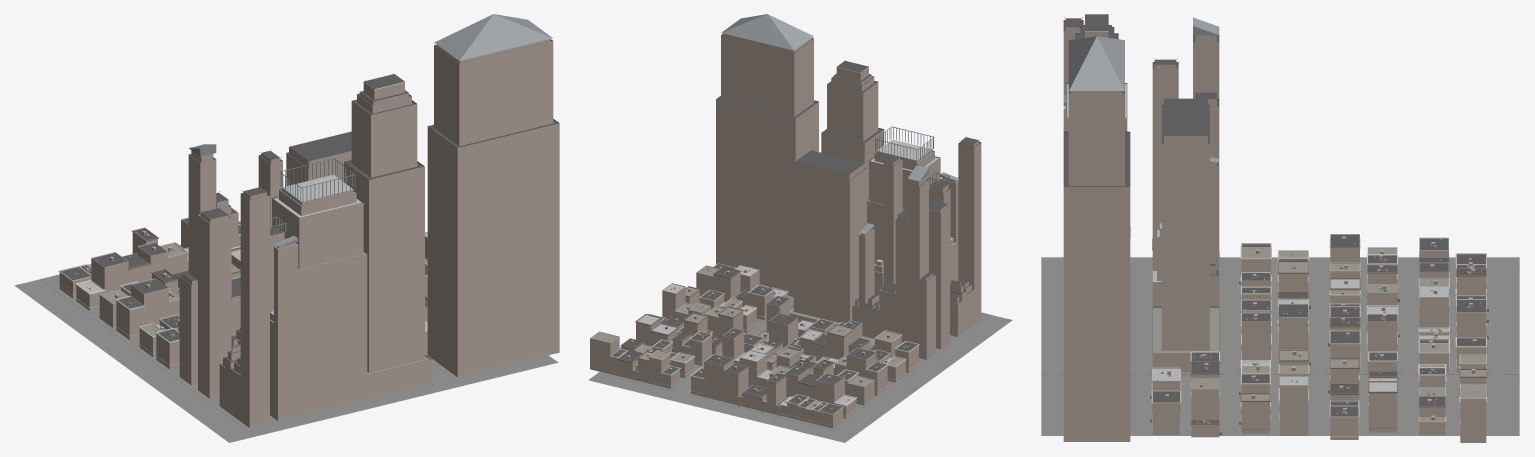
3 renders of one model, left to right at view 1: azimuth 30°, elevation 25°; view 2: azimuth 150°, elevation 25°; view 3: azimuth 270°, elevation 25°, orthographic. The views are drawn at different scales.
Parts seen in each view (by area): view 1: t16_facade, t16_roof, t16_ground, t16_detail; view 2: t16_facade, t16_roof, t16_ground, t16_detail; view 3: t16_facade, t16_ground, t16_roof, t16_detail.
Boxes of the visible parts, x1,y1,x2,y2 form: t16_facade: (59, 39, 559, 427); t16_roof: (61, 14, 557, 375); t16_ground: (14, 245, 558, 442); t16_detail: (58, 39, 559, 376); t16_facade: (590, 33, 981, 428); t16_roof: (591, 14, 980, 414); t16_ground: (588, 295, 1012, 442); t16_detail: (590, 34, 980, 425); t16_facade: (1063, 27, 1486, 442); t16_ground: (1041, 257, 1520, 435); t16_roof: (1063, 14, 1485, 423); t16_detail: (1063, 20, 1488, 436).
Size of the model in its own units: 395 by 375 by 431.
